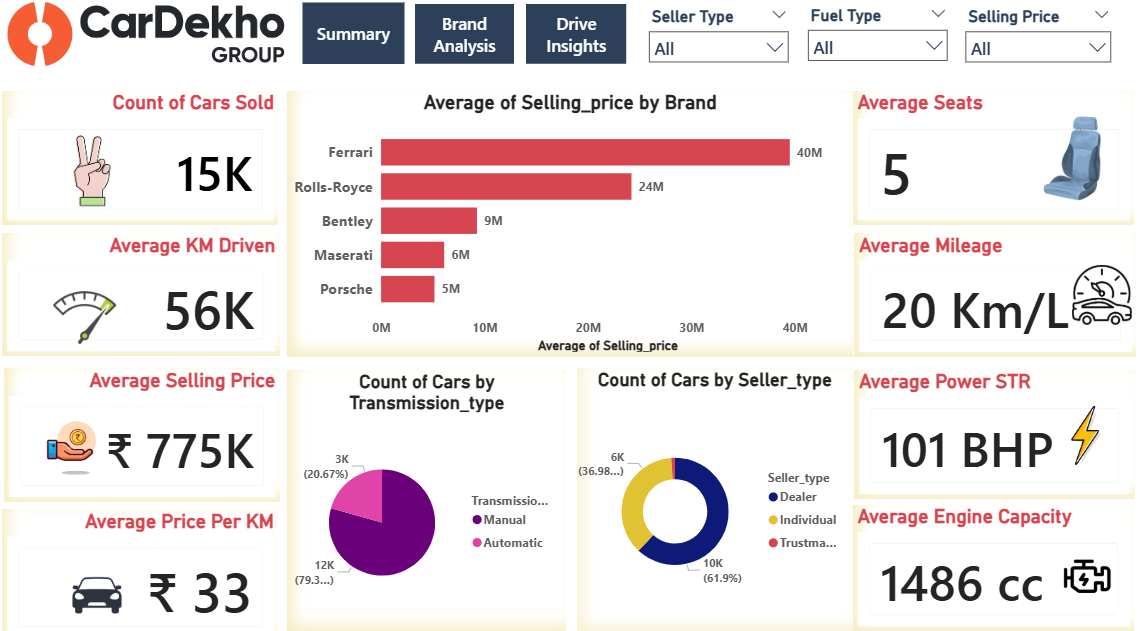

The dashboard page shown, as its layout file describes it:
{"tool":"powerbi","page":{"name":"Summary","canvas":[1280,720],"ordinal":0},"visuals":[{"type":"image","box":[6.6,0,313.1,92.8],"z":0},{"type":"pieChart","fields":{"Category":["Cars.Transmission_type"],"Y":["Cars.Count of Cars"]},"box":[319.7,417.8,308.2,289.5],"z":1000},{"type":"donutChart","fields":{"Category":["Cars.Seller_type"],"Y":["Cars.Count of Cars"]},"box":[639.4,415.8,304.8,291.5],"z":2000},{"type":"cardVisual","title":"Average Seats","fields":{"Data":["Cars.Avg Seats"]},"box":[944.2,109.3,310.9,147.8],"z":3000},{"type":"actionButton","box":[336.3,11.6,112.6,67.9],"z":4000},{"type":"cardVisual","title":"Average Engine Capacity","fields":{"Data":["Cars.Avg Engine Capacity STR"]},"box":[944.2,567.3,310.9,139.5],"z":5000},{"type":"actionButton","box":[460.5,13.3,109.3,66.3],"z":6000},{"type":"cardVisual","title":"Count of Cars Sold","fields":{"Data":["Cars.Count of Cars"]},"box":[5,109.3,304.8,148],"z":7000,"group":"g1"},{"type":"cardVisual","title":"Average Power STR","fields":{"Data":["Cars.Avg Power STR"]},"box":[945.9,417.4,309.8,142.5],"z":7000},{"type":"actionButton","box":[583.1,13.3,111,66.3],"z":8000},{"type":"cardVisual","title":"Average Mileage","fields":{"Data":["Cars.Avg Mileage"]},"box":[945.9,266.7,311.4,135.8],"z":9000},{"type":"cardVisual","title":"Average Price Per KM","fields":{"Data":["Cars.Avg Price Per KM"]},"box":[5,571.9,304.6,147],"z":9000,"group":"g1"},{"type":"slicer","title":"Fuel Type","fields":{"Values":["Cars.Selling_price"]},"box":[1058.5,11.6,180.6,82.8],"z":10000},{"type":"image","box":[41.1,152.7,124.5,90.1],"z":11000,"group":"g1"},{"type":"image","box":[1091.6,125.9,188.8,116],"z":11000},{"type":"slicer","title":"Fuel Type","fields":{"Values":["Cars.Seller_type"]},"box":[709,11.6,173.9,96.1],"z":12000},{"type":"cardVisual","title":"Average Selling Price","fields":{"Data":["Cars.Avg Selling Price"]},"box":[6.8,416.6,304.6,147],"z":12000,"group":"g1"},{"type":"cardVisual","title":"Average KM Driven","fields":{"Data":["Cars.Avg KM Driven"]},"box":[5,266.2,306.4,135.5],"z":13000,"group":"g1"},{"type":"image","box":[1182.7,301.5,72.9,66.3],"z":13000},{"type":"image","box":[60.8,299.7,127.6,121.5],"z":14000},{"type":"image","box":[32.4,450.5,95.9,112.6],"z":14000,"group":"g1"},{"type":"image","box":[1147.9,440.6,107.7,97.7],"z":15000},{"type":"image","box":[53.3,618.3,112.4,97],"z":15000,"group":"g1"},{"type":"image","box":[33.5,303.2,125.6,117.2],"z":16000,"group":"g1"},{"type":"image","box":[1166.2,614.6,72.9,61.3],"z":16000},{"type":"clusteredBarChart","fields":{"Category":["Cars.Brand","Cars.Car_name"],"Y":["Avg(Cars.Selling_price)"]},"box":[319.7,109.3,624.5,293.2],"z":17000},{"type":"slicer","title":"Fuel Type","fields":{"Values":["Cars1.fuel_type"]},"box":[885.1,10.1,174.2,70.9],"z":18000},{"type":"group","id":"g1","title":"Group 3","box":[5,109.3,304.8,609.6],"z":19000}]}

Visuals, with their boxes in screenshot pixels (x1, y1, x2, y2), scaled from the page's 1280x720 canvas onto the 1147x631 screenshot:
image: <bbox>6, 0, 286, 81</bbox>
pieChart - Cars.Transmission_type x Cars.Count of Cars: <bbox>286, 366, 563, 620</bbox>
donutChart - Cars.Seller_type x Cars.Count of Cars: <bbox>573, 364, 846, 620</bbox>
"Average Seats" cardVisual: <bbox>846, 96, 1125, 225</bbox>
actionButton: <bbox>301, 10, 402, 70</bbox>
"Average Engine Capacity" cardVisual: <bbox>846, 497, 1125, 619</bbox>
actionButton: <bbox>413, 12, 511, 70</bbox>
"Count of Cars Sold" cardVisual: <bbox>4, 96, 278, 225</bbox>
"Average Power STR" cardVisual: <bbox>848, 366, 1125, 491</bbox>
actionButton: <bbox>523, 12, 622, 70</bbox>
"Average Mileage" cardVisual: <bbox>848, 234, 1127, 353</bbox>
"Average Price Per KM" cardVisual: <bbox>4, 501, 277, 630</bbox>
"Fuel Type" slicer: <bbox>949, 10, 1110, 83</bbox>
image: <bbox>37, 134, 148, 213</bbox>
image: <bbox>978, 110, 1146, 212</bbox>
"Fuel Type" slicer: <bbox>635, 10, 791, 94</bbox>
"Average Selling Price" cardVisual: <bbox>6, 365, 279, 494</bbox>
"Average KM Driven" cardVisual: <bbox>4, 233, 279, 352</bbox>
image: <bbox>1060, 264, 1125, 322</bbox>
image: <bbox>54, 263, 169, 369</bbox>
image: <bbox>29, 395, 115, 493</bbox>
image: <bbox>1029, 386, 1125, 472</bbox>
image: <bbox>48, 542, 148, 627</bbox>
image: <bbox>30, 266, 143, 368</bbox>
image: <bbox>1045, 539, 1110, 592</bbox>
clusteredBarChart - Cars.Brand x Cars.Car_name: <bbox>286, 96, 846, 353</bbox>
"Fuel Type" slicer: <bbox>793, 9, 949, 71</bbox>
"Group 3" group: <bbox>4, 96, 278, 630</bbox>
